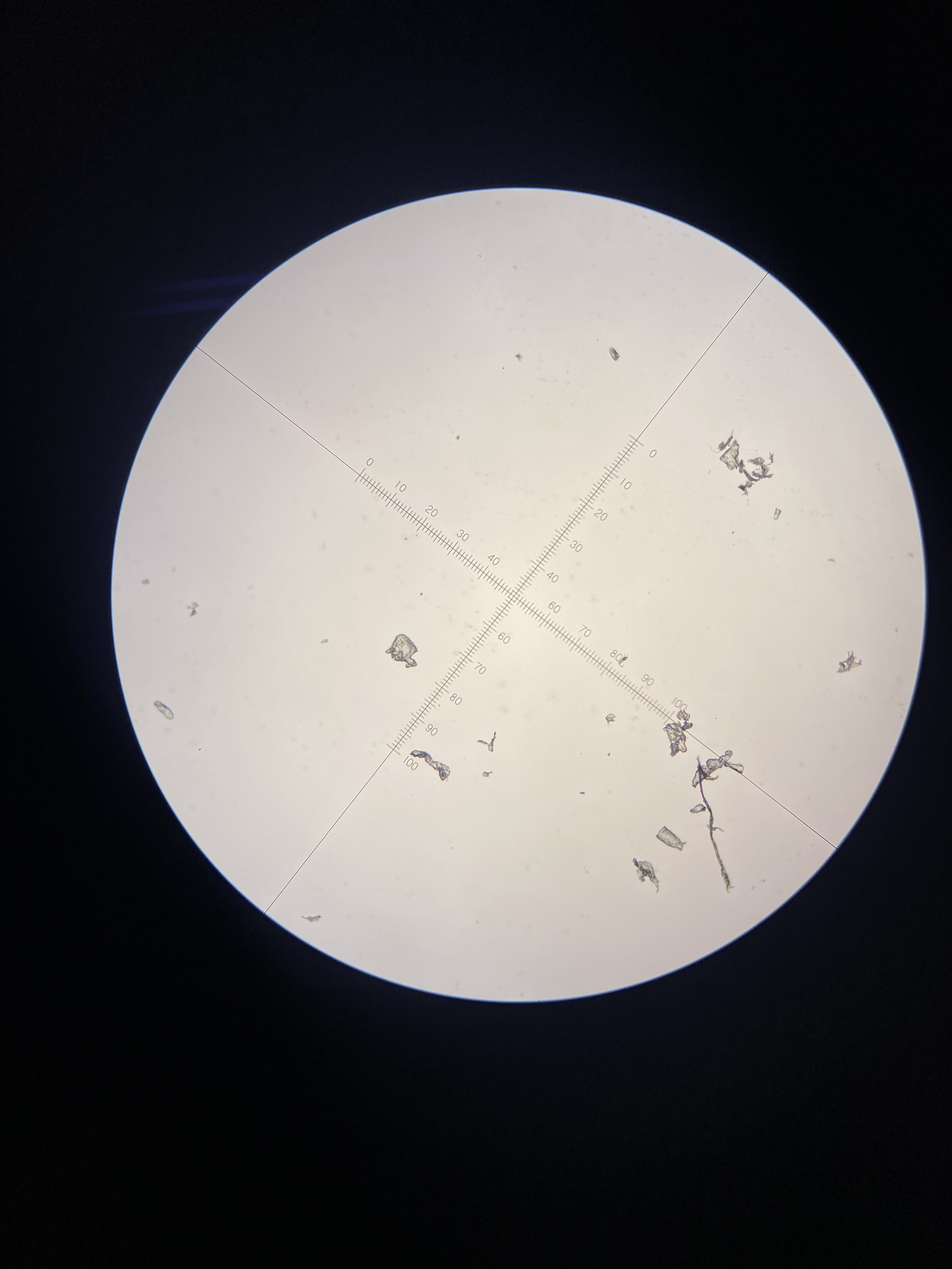microplastic: (688, 750, 744, 889), (717, 436, 779, 497), (410, 749, 452, 782), (632, 852, 663, 893), (659, 719, 693, 755), (389, 632, 419, 671), (654, 819, 688, 851), (833, 651, 864, 678), (154, 699, 176, 722), (477, 731, 498, 751), (299, 913, 324, 923), (617, 654, 631, 669), (770, 507, 790, 516), (609, 347, 621, 362), (605, 712, 616, 725), (514, 354, 524, 362), (482, 770, 492, 777), (579, 790, 585, 796), (606, 753, 613, 756)
